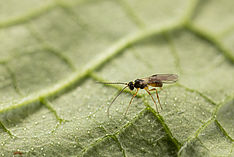Trifoli: (101, 71, 184, 119)
